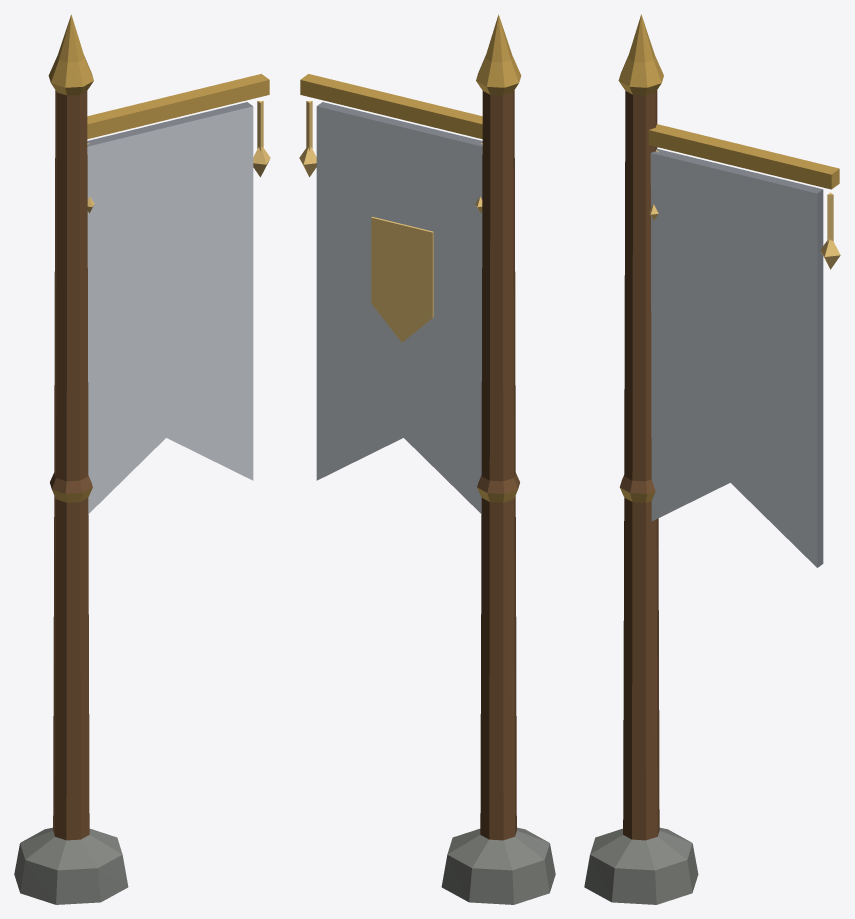
Rendered from BannerPole.obj.
3 renders of one model, left to right at view 1: azimuth 30°, elevation 25°; view 2: azimuth 150°, elevation 25°; view 3: azimuth 330°, elevation 25°, orthographic.
Bounding box in the file's own units: 2.45 × 8.1 × 1.
